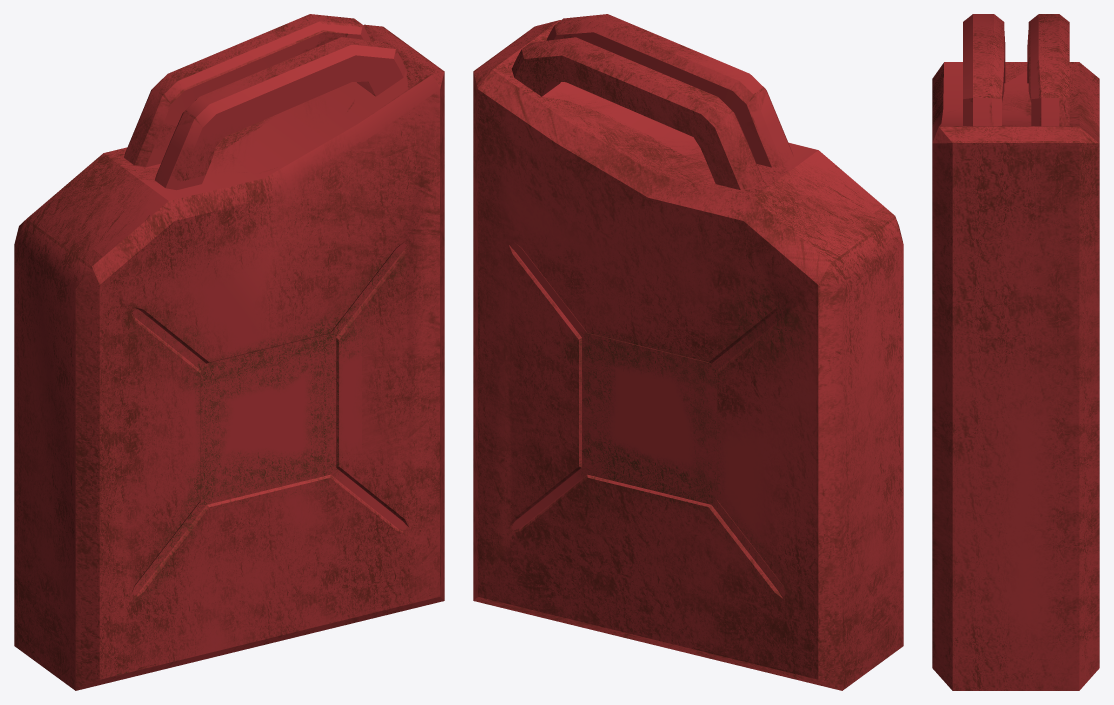
File: gasolina.fbx
3 renders of one model, left to right at view 1: azimuth 30°, elevation 25°; view 2: azimuth 150°, elevation 25°; view 3: azimuth 270°, elevation 25°, orthographic. The views are drawn at different scales.
Visible parts, largest first — view 1: GasolineTank_1; view 2: GasolineTank_1; view 3: GasolineTank_1.
Boxes of the visible parts, <box> form: GasolineTank_1: <box>14,14,444,690</box>; GasolineTank_1: <box>473,14,903,690</box>; GasolineTank_1: <box>932,14,1099,690</box>.
Bounding box in the file's own units: 345 × 509 × 131.
1 material, 1 textured.
